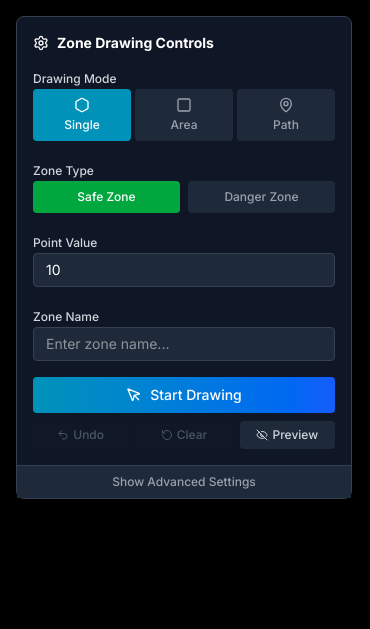
Test: GameManagerControls › Advanced Settings › should toggle advanced settings
The image size is (370, 629).
Click the button "Show Advanced Settings".
click(184, 482)  # box [17,465,351,498]
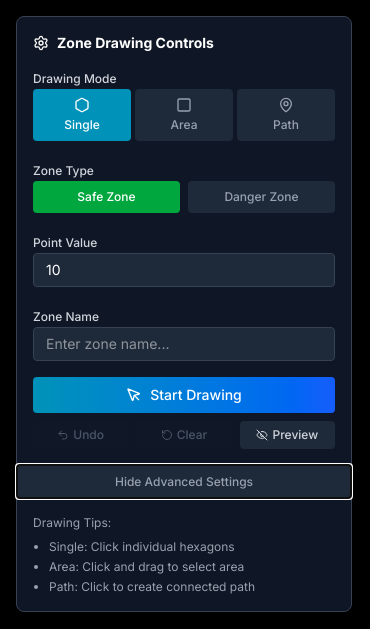
Now the button "Hide Advanced Settings" is shown, box [17,465,351,498]
Now the text "Drawing Tips:" is shown, box [33,515,111,530]
